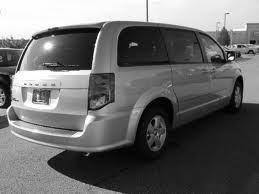car: (8, 20, 246, 162)
